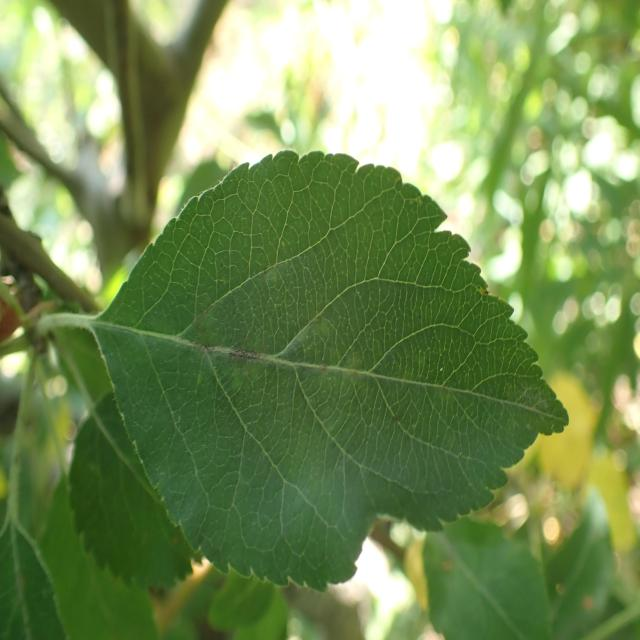scab: (120, 284, 535, 509)
